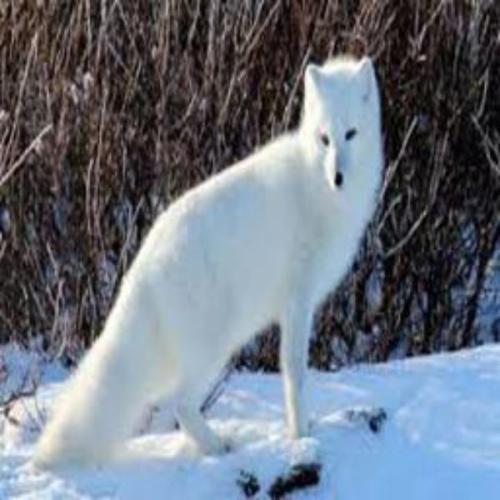arctic_fox-endangered: (36, 55, 383, 466)
